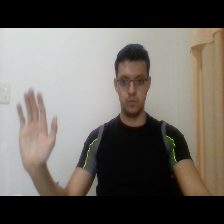left: (13, 84, 65, 170)
